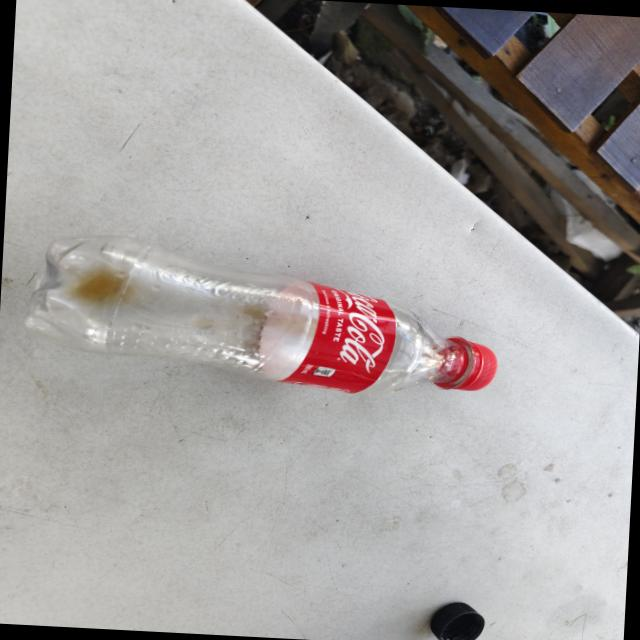Bottle: (24, 237, 497, 393)
